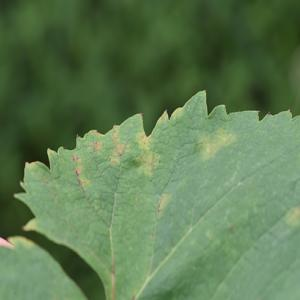Folha: (0, 88, 299, 299)
Fungo: (196, 126, 238, 162), (135, 131, 161, 177), (110, 126, 128, 167), (72, 153, 88, 191), (156, 191, 172, 217), (284, 204, 299, 228), (0, 236, 14, 250), (93, 140, 101, 152), (72, 153, 79, 162)
